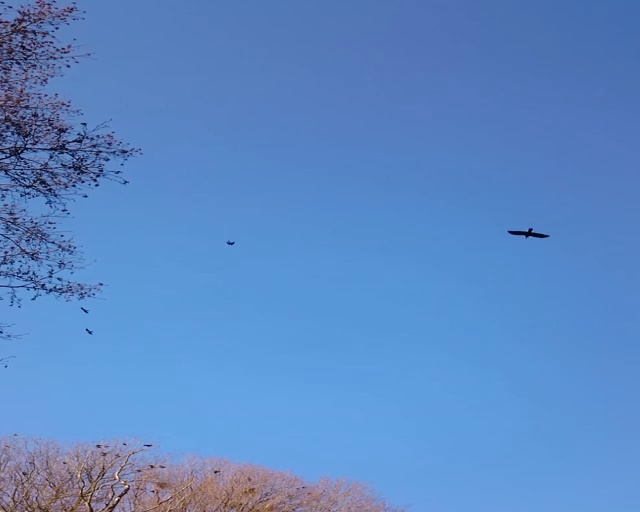BIRD: (507, 226, 550, 239)
